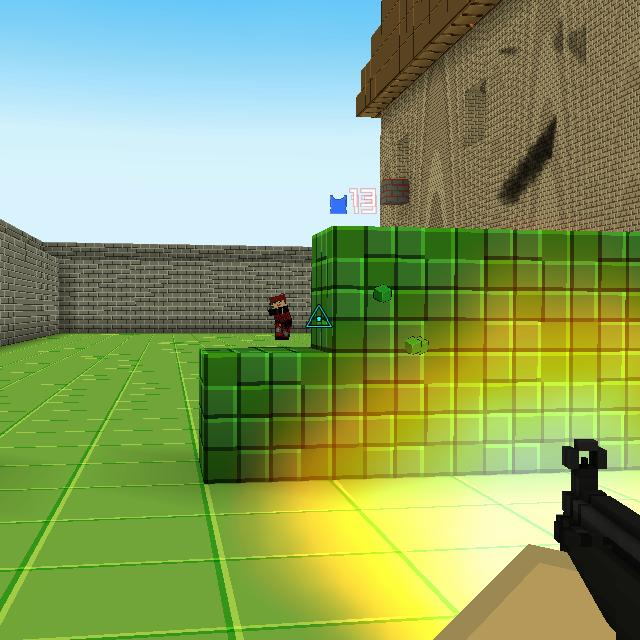enemy: (268, 292, 292, 339)
